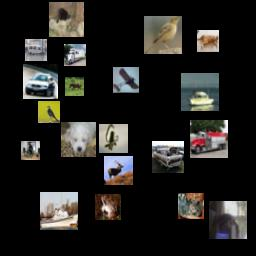airplane: (113, 67, 139, 93)
automobile: (23, 64, 58, 99), (152, 141, 184, 173), (25, 39, 47, 61)
bird: (144, 16, 182, 54), (99, 124, 128, 153), (38, 101, 60, 123)
cat: (209, 201, 247, 239), (49, 2, 84, 37), (178, 193, 204, 219), (197, 30, 219, 52), (21, 141, 40, 160)
deer: (104, 156, 133, 185)
dog: (61, 122, 96, 157)
frog: (95, 194, 121, 220)
ship: (181, 73, 219, 111), (40, 192, 78, 230)
truck: (190, 120, 228, 158), (64, 44, 86, 66)
